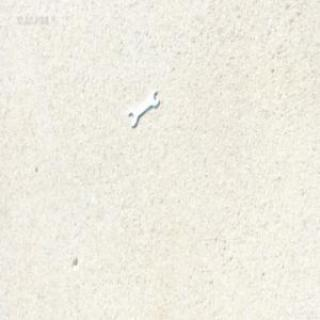Wrenchtrack_idkeyframe: (127, 88, 159, 126)
